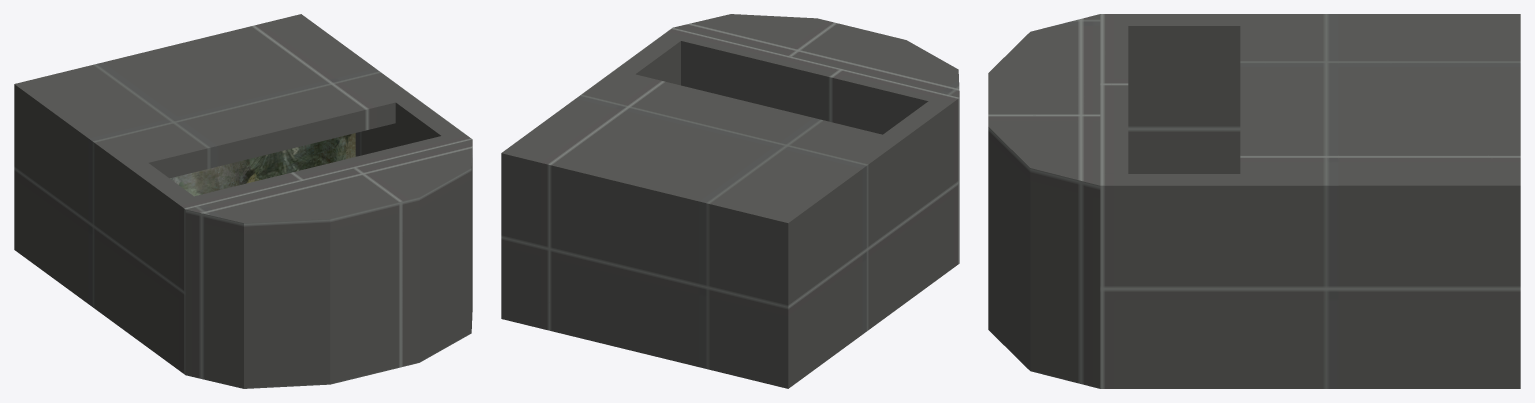
The model's file is trash.vmf.obj.
3 views of the same model, side by side, from view 1: azimuth 30°, elevation 25°; view 2: azimuth 150°, elevation 25°; view 3: azimuth 270°, elevation 25° (orthographic). The views are drawn at different scales.
Visible parts, largest first — view 1: 9, 11, 5, 4, 12, 3, 6, 10, 14, 7; view 2: 9, 11, 14, 12, 10, 3, 7, 5, 4, 6; view 3: 9, 10, 11, 7, 12, 6, 14, 3, 5, 4.
Part boxes in pixels (x1,y1,x2,y2): 9: (14, 14, 374, 303); 11: (88, 133, 204, 374); 5: (329, 174, 419, 384); 4: (244, 175, 330, 388); 12: (108, 73, 395, 178); 3: (185, 174, 328, 388); 6: (330, 167, 471, 362); 10: (355, 68, 472, 156); 14: (194, 136, 452, 204); 7: (329, 139, 472, 328); 9: (501, 99, 862, 388); 11: (843, 93, 959, 333); 14: (681, 32, 939, 134); 12: (595, 74, 882, 163); 10: (576, 27, 691, 103); 3: (817, 62, 959, 97); 7: (673, 14, 815, 62); 5: (816, 18, 905, 62); 4: (817, 40, 958, 69); 6: (731, 14, 817, 62); 9: (1338, 14, 1520, 388); 10: (1100, 174, 1338, 388); 11: (1100, 14, 1338, 173); 7: (1030, 100, 1100, 388); 12: (1240, 26, 1338, 173); 6: (988, 100, 1099, 370); 14: (1100, 26, 1128, 173); 3: (1030, 14, 1100, 99); 5: (988, 73, 1099, 126); 4: (988, 32, 1099, 99).
Size of the model in its own units: 29 by 16 by 38.
Materials: 2 (2 with a texture image).
